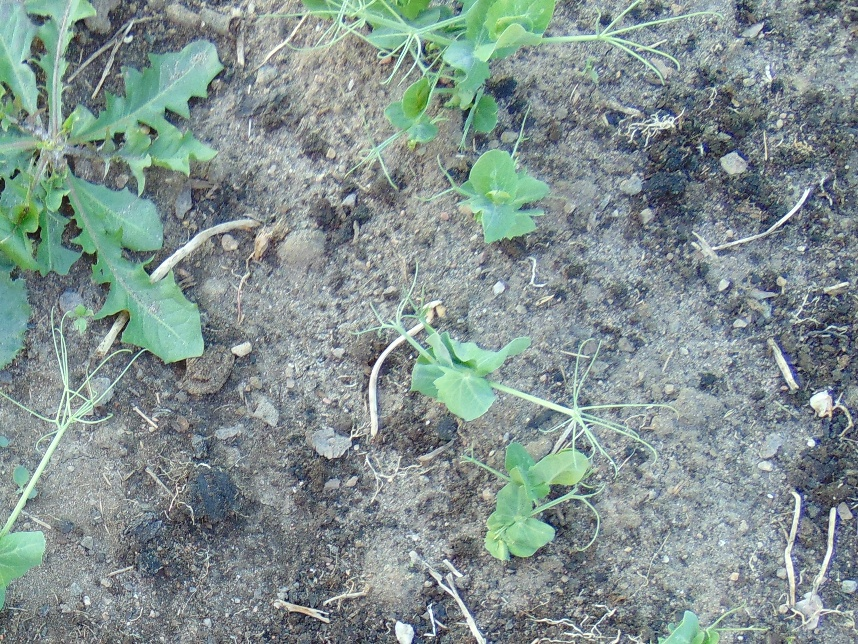crop: (299, 1, 642, 178), (378, 299, 652, 470), (1, 375, 94, 596), (432, 115, 560, 243), (477, 445, 605, 562), (658, 603, 745, 644)
weed: (1, 1, 210, 359)
